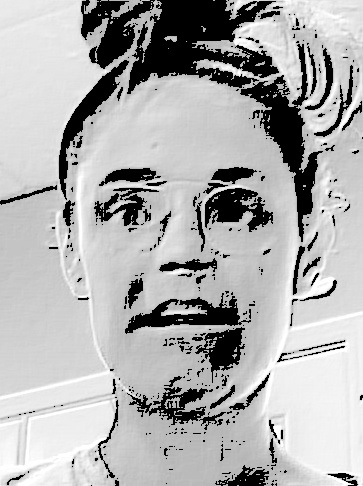nose_M_C: (145, 207, 221, 291)
